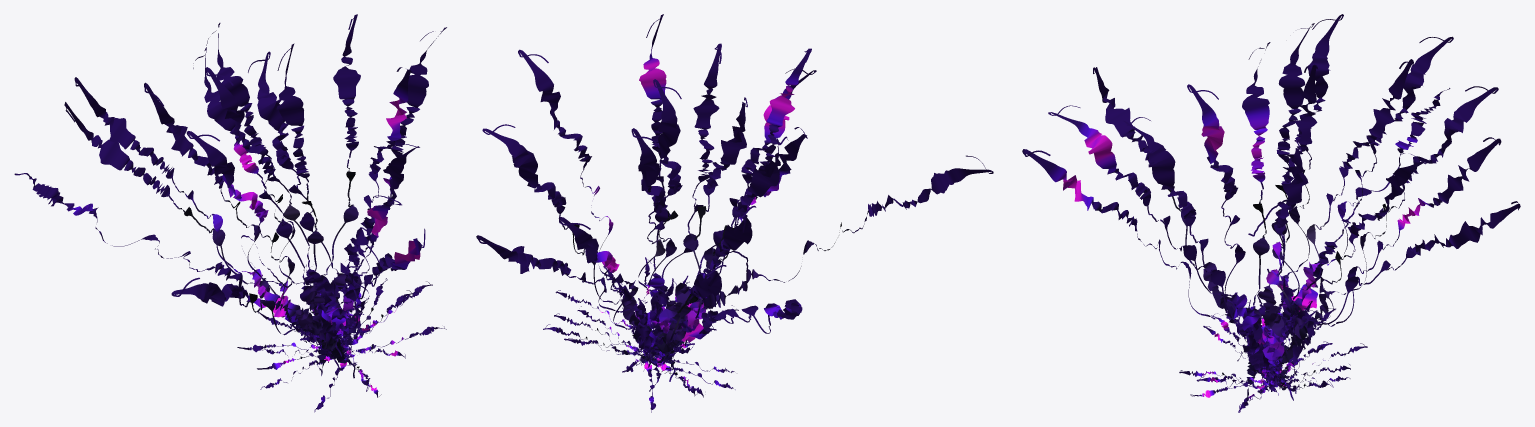
The model's file is Quill_tree.fbx.
3 views of the same model, side by side, from view 1: azimuth 30°, elevation 25°; view 2: azimuth 150°, elevation 25°; view 3: azimuth 270°, elevation 25° (orthographic).
Parts seen in each view (by area): view 1: Paint.001, Paint; view 2: Paint.001, Paint; view 3: Paint.001, Paint.
Part boxes in pixels (box(x1,y1,x2,y2)): Paint.001: box(14, 14, 446, 378); Paint: box(237, 252, 446, 412); Paint.001: box(476, 14, 993, 391); Paint: box(543, 257, 738, 412); Paint.001: box(1022, 14, 1520, 400); Paint: box(1179, 276, 1367, 412).
Size of the model in its own units: 50.33 by 42.42 by 57.
